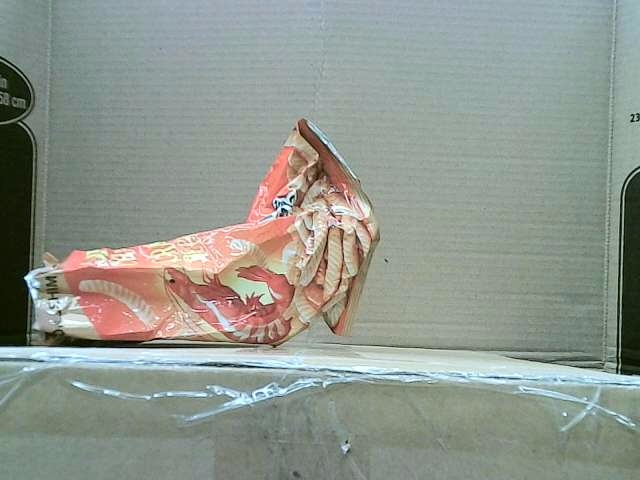Chips: (22, 119, 380, 344)
